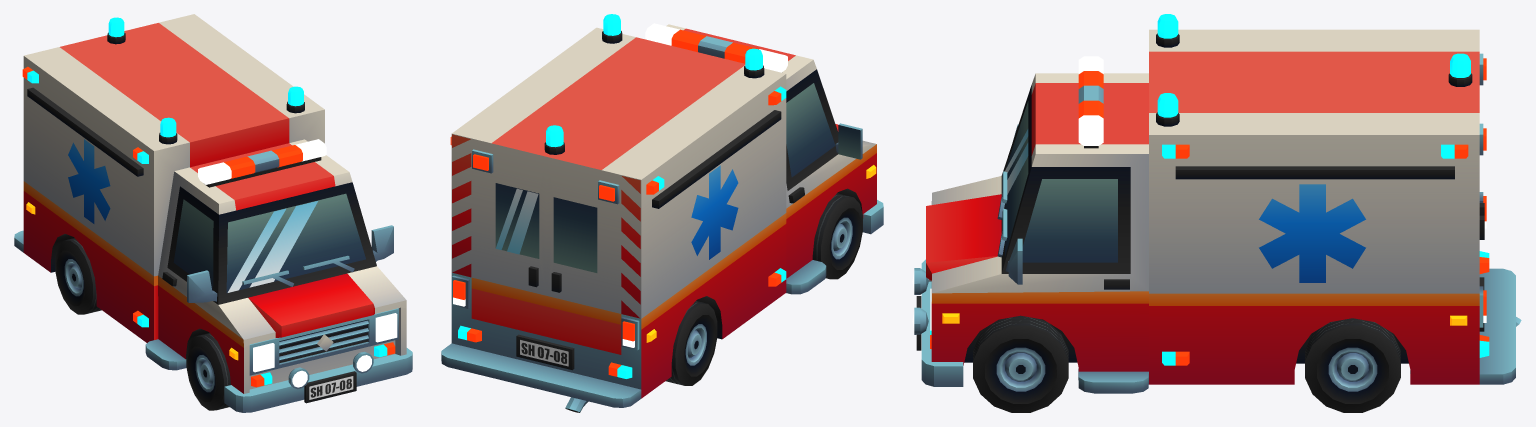
Rendered from Ambulance.fbx.
3 renders of one model, left to right at view 1: azimuth 30°, elevation 25°; view 2: azimuth 150°, elevation 25°; view 3: azimuth 270°, elevation 25°, orthographic. The views are drawn at different scales.
Visible parts, largest first — view 1: _gltfNode_59; view 2: _gltfNode_59; view 3: _gltfNode_59.
Boxes of the visible parts, left/top/right/bottom form: _gltfNode_59: left=14, top=14, right=412, bottom=412; _gltfNode_59: left=441, top=14, right=883, bottom=412; _gltfNode_59: left=912, top=14, right=1521, bottom=412.
Size of the model in its own units: 2.41 by 2.71 by 4.9.
2 materials, 2 textured.
